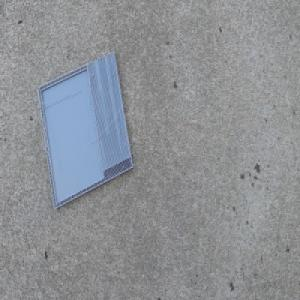PlasticPart: (36, 50, 133, 212)
